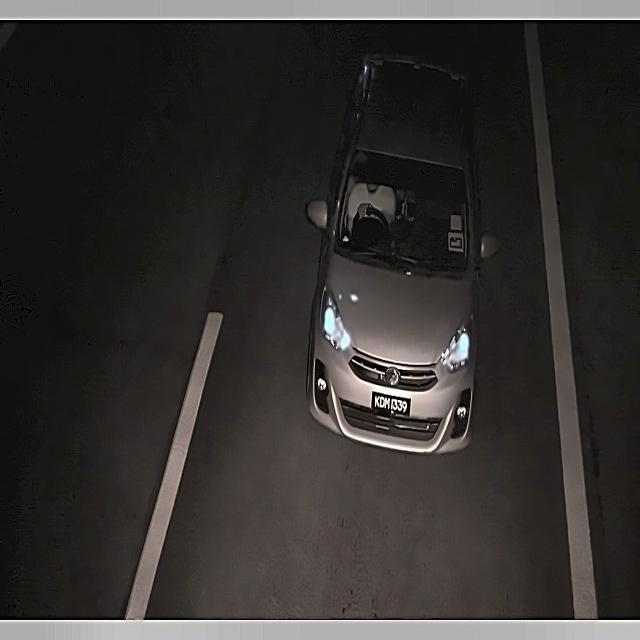car: (368, 384, 416, 424)
